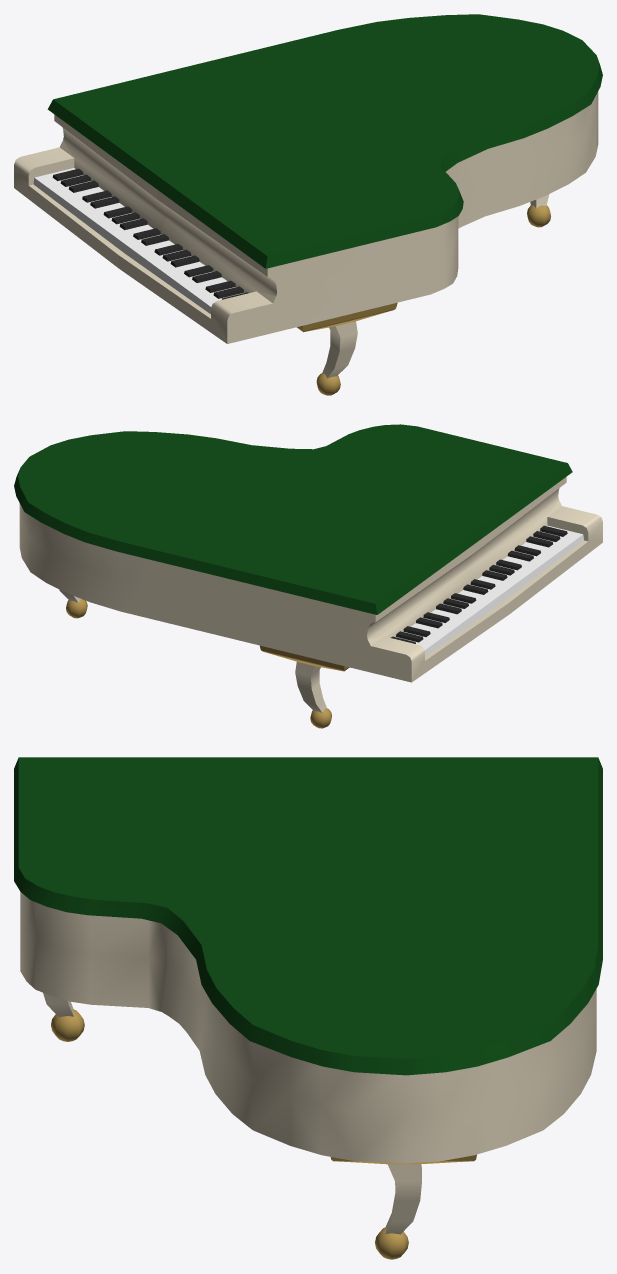
The model's file is BallroomPianoUV.fbx.
3 renders of one model, top to bottom at view 1: azimuth 30°, elevation 25°; view 2: azimuth 150°, elevation 25°; view 3: azimuth 270°, elevation 25°, orthographic. The views are drawn at different scales.
Visible parts, largest first — view 1: Piano:RoadKillOut; view 2: Piano:RoadKillOut; view 3: Piano:RoadKillOut.
Boxes of the visible parts, x1,y1,x2,y2 form: Piano:RoadKillOut: (14, 14, 602, 395); Piano:RoadKillOut: (14, 424, 602, 728); Piano:RoadKillOut: (14, 757, 602, 1259).
Size of the model in its own units: 606 by 197 by 455.
